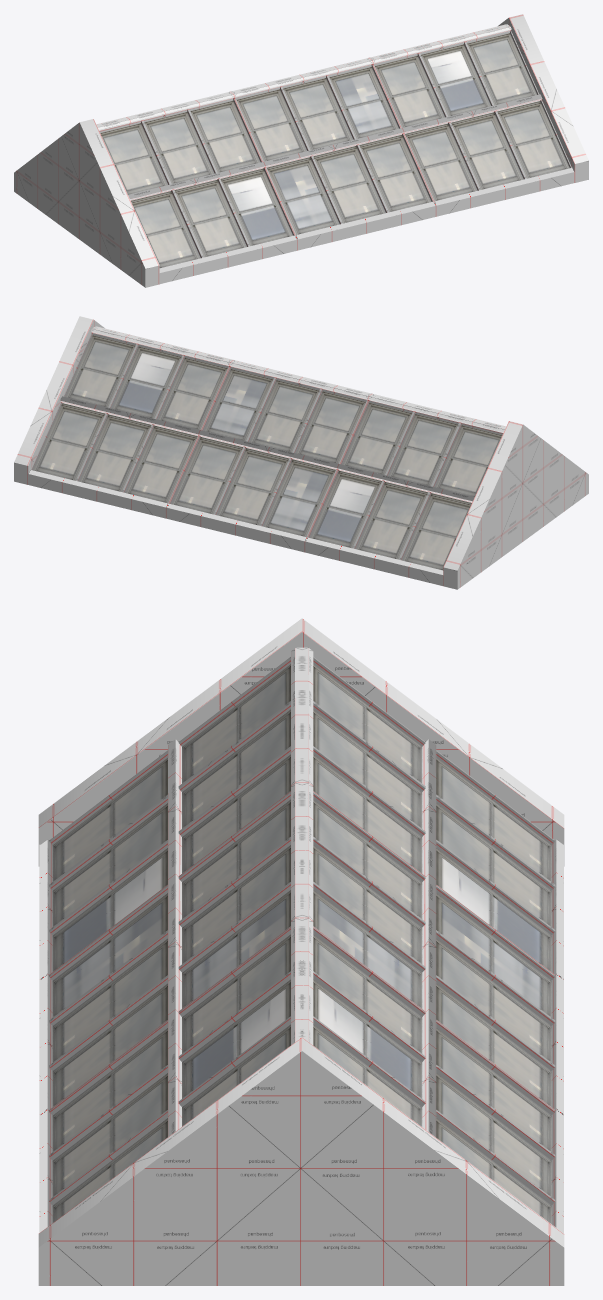
The model's file is rd6_windows.FBX.
The picture shows the model from 3 angles, top to bottom: view 1: azimuth 30°, elevation 25°; view 2: azimuth 150°, elevation 25°; view 3: azimuth 270°, elevation 25°; orthographic projection. The views are drawn at different scales.
Parts seen in each view (by area): view 1: rd6_windows; view 2: rd6_windows; view 3: rd6_windows.
Part boxes in pixels (x1,y1,x2,y2): rd6_windows: [14, 14, 588, 287]; rd6_windows: [14, 316, 588, 589]; rd6_windows: [38, 618, 564, 1285].
Size of the model in its own units: 64.04 by 16.2 by 32.88.
